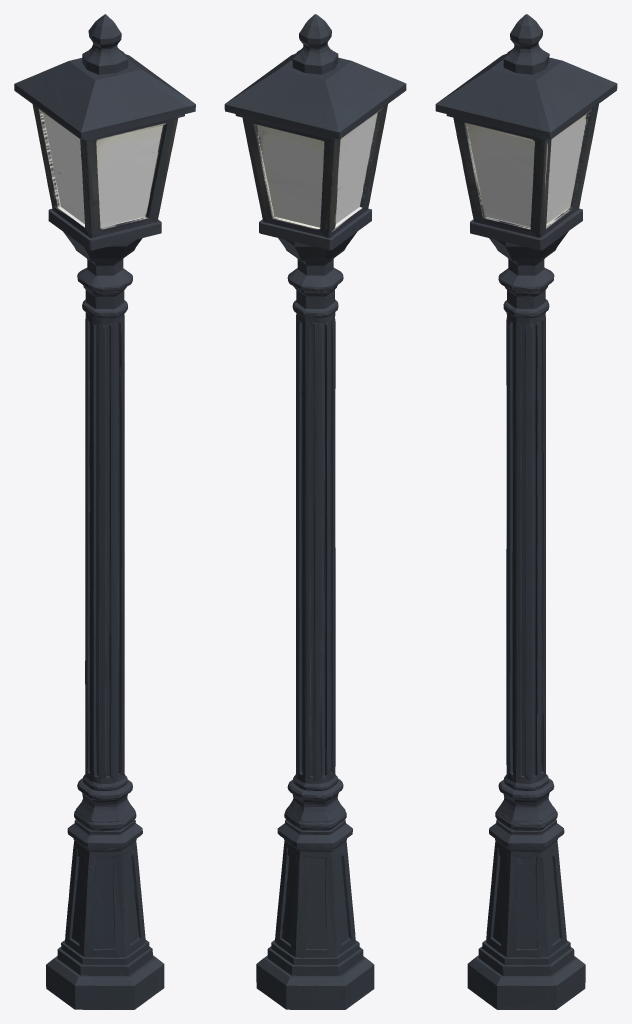
Rendered from street_lamp_trail.glb.
3 renders of one model, left to right at view 1: azimuth 30°, elevation 25°; view 2: azimuth 150°, elevation 25°; view 3: azimuth 330°, elevation 25°, orthographic.
Visible parts, largest first — view 1: street_lamp_trail; view 2: street_lamp_trail; view 3: street_lamp_trail.
Part boxes in pixels (x1,y1,x2,y2): street_lamp_trail: (14, 14, 195, 1009); street_lamp_trail: (224, 14, 406, 1009); street_lamp_trail: (435, 14, 617, 1009).
Size of the model in its own units: 0.4459 by 3.6 by 0.4481.
Materials: 1 (1 with a texture image).
